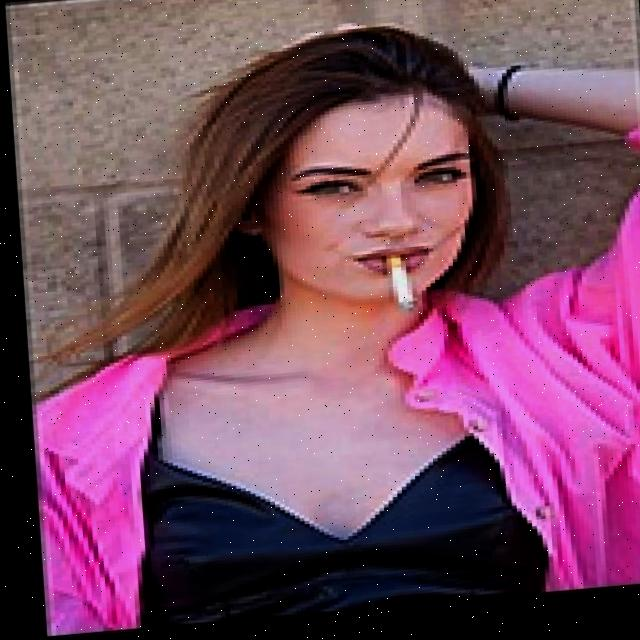cigarette: (382, 258, 413, 320)
